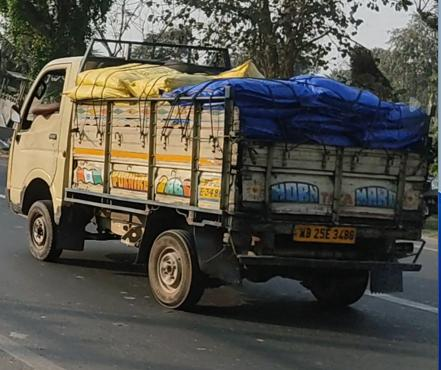Truck: (4, 33, 434, 315)
